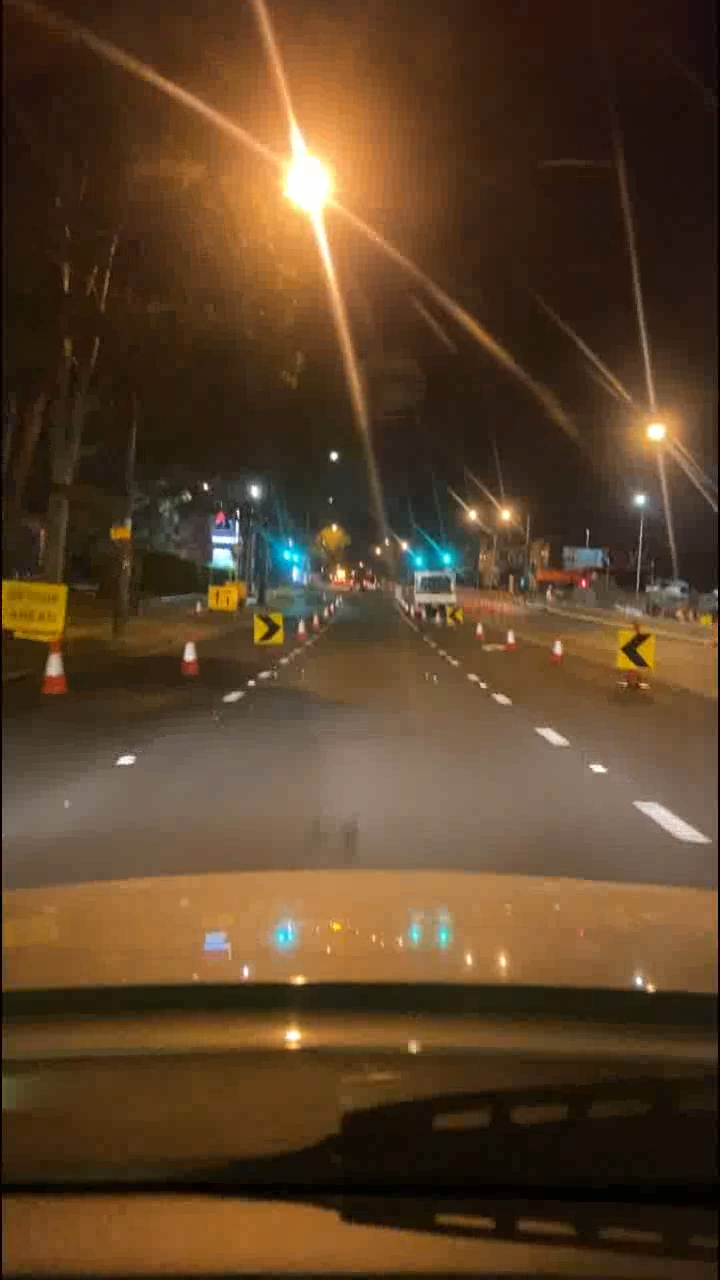road cone: (41, 638, 70, 700), (172, 620, 201, 682), (541, 623, 570, 685), (495, 614, 524, 676), (460, 606, 489, 668), (299, 600, 328, 662), (336, 585, 350, 627)
road works sign board: (1, 575, 66, 646), (610, 632, 649, 684), (251, 609, 290, 661), (199, 580, 243, 617)
truck: (397, 565, 454, 621)
